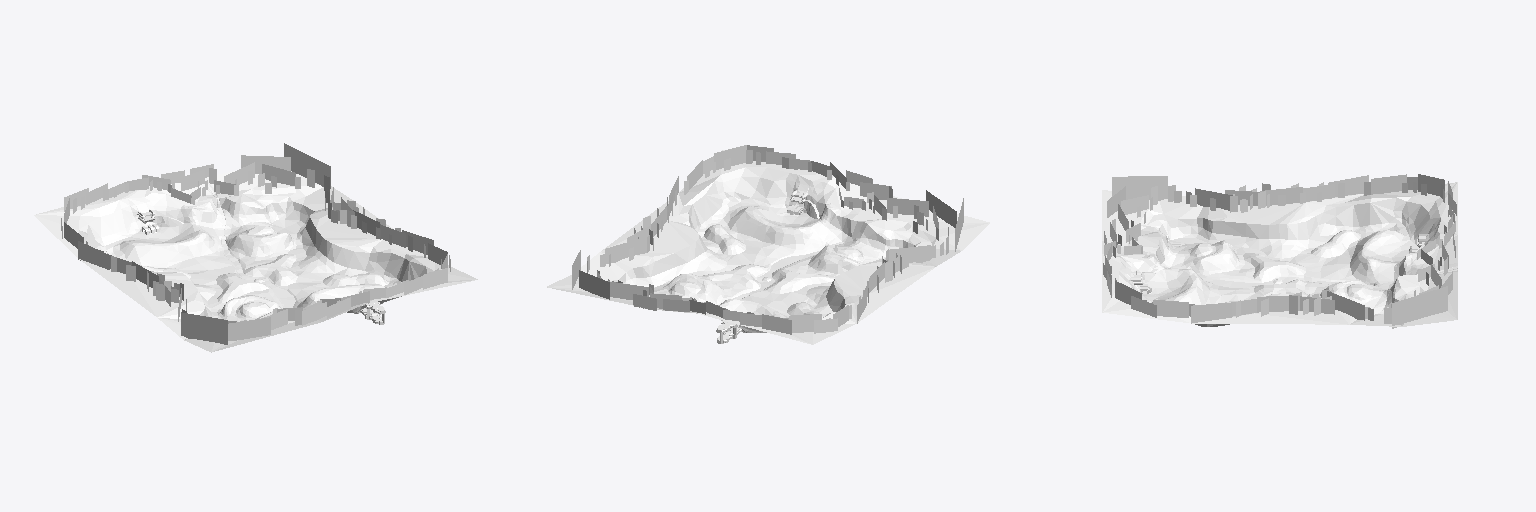
Rendered from timberland.obj.
The picture shows the model from 3 angles: view 1: azimuth 30°, elevation 25°; view 2: azimuth 150°, elevation 25°; view 3: azimuth 270°, elevation 25°; orthographic projection.
Parts seen in each view (by area): view 1: -000, -001, -003, -004, -015, -028, -005, -016, -045, -023, -014, -027 (+2 smaller); view 2: -000, -001, -023, -014, -017, -028, -018, -003, -025, -016, -027, -022 (+2 smaller); view 3: -000, -001, -003, -004, -005, -017, -021, -024, -016, -023, -045, -020 (+1 smaller).
Part boxes in pixels (left/top/right/bottom): -000: left=34, top=171, right=477, bottom=352; -001: left=104, top=208, right=402, bottom=321; -003: left=241, top=143, right=330, bottom=188; -004: left=181, top=309, right=227, bottom=344; -015: left=103, top=175, right=174, bottom=234; -028: left=161, top=164, right=213, bottom=204; -005: left=64, top=222, right=109, bottom=269; -016: left=228, top=317, right=270, bottom=340; -045: left=205, top=179, right=295, bottom=307; -023: left=64, top=183, right=107, bottom=223; -014: left=340, top=280, right=408, bottom=309; -027: left=404, top=268, right=447, bottom=294; -000: left=547, top=150, right=989, bottom=344; -001: left=637, top=200, right=885, bottom=317; -023: left=740, top=313, right=821, bottom=334; -014: left=782, top=157, right=846, bottom=214; -017: left=605, top=226, right=650, bottom=263; -028: left=633, top=293, right=696, bottom=311; -018: left=874, top=186, right=928, bottom=220; -003: left=572, top=250, right=609, bottom=299; -025: left=844, top=182, right=891, bottom=213; -016: left=926, top=190, right=956, bottom=240; -027: left=746, top=145, right=795, bottom=164; -022: left=713, top=145, right=746, bottom=172; -000: left=1102, top=182, right=1457, bottom=326; -001: left=1142, top=223, right=1424, bottom=326; -003: left=1392, top=272, right=1452, bottom=328; -004: left=1112, top=176, right=1196, bottom=206; -005: left=1328, top=174, right=1416, bottom=196; -017: left=1300, top=290, right=1364, bottom=320; -021: left=1240, top=183, right=1302, bottom=212; -024: left=1131, top=296, right=1188, bottom=317; -016: left=1107, top=186, right=1157, bottom=217; -023: left=1418, top=174, right=1456, bottom=215; -045: left=1201, top=268, right=1457, bottom=287; -020: left=1257, top=295, right=1299, bottom=316.
Size of the model in its own units: 293 by 54.16 by 336.